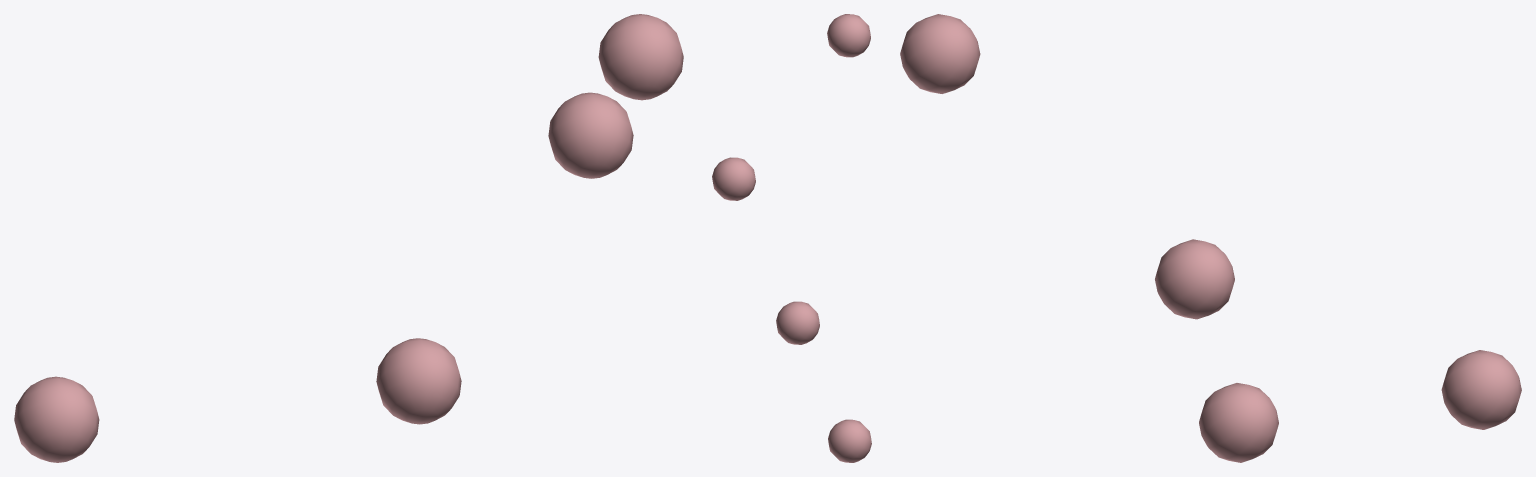
3 views of the same model, side by side, from view 1: azimuth 30°, elevation 25°; view 2: azimuth 150°, elevation 25°; view 3: azimuth 270°, elevation 25° (orthographic). The views are drawn at different scales.
Visible parts, largest first — view 1: ZA_1e06423bab7f05b6; view 2: ZA_1e06423bab7f05b6; view 3: ZA_1e06423bab7f05b6.
Part boxes in pixels (x1,y1,x2,y2): ZA_1e06423bab7f05b6: [14, 14, 683, 462]; ZA_1e06423bab7f05b6: [712, 14, 871, 462]; ZA_1e06423bab7f05b6: [900, 14, 1521, 462].
Bounding box in the file's own units: 0.0157 × 0.0193 × 0.0201.
